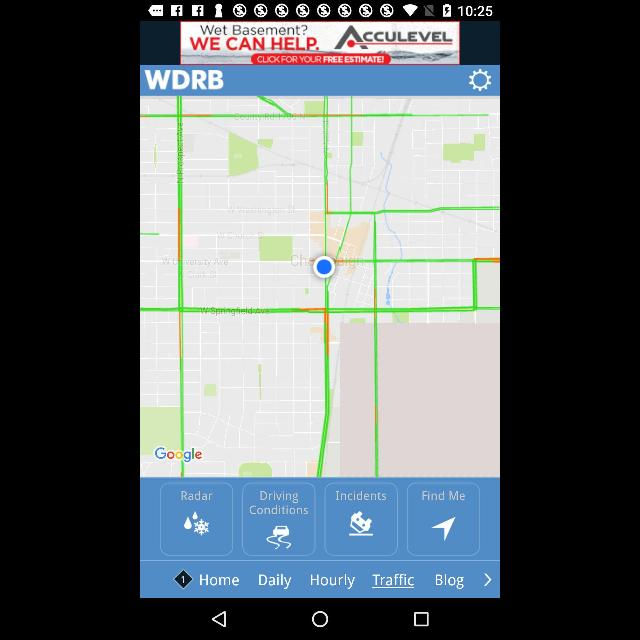icon: (160, 483, 232, 555), (408, 483, 480, 555), (243, 484, 315, 554), (326, 484, 398, 554), (468, 68, 494, 92), (172, 568, 194, 590), (209, 610, 227, 628), (311, 610, 329, 628), (413, 612, 429, 626), (483, 572, 492, 588)
iframe: (180, 21, 460, 64)
image: (144, 70, 226, 92)
map: (141, 97, 499, 477)
panel: (142, 598, 500, 638)
text: (250, 491, 308, 515), (334, 491, 388, 502), (422, 491, 466, 502), (181, 491, 213, 502)
textbutton: (310, 573, 356, 589), (372, 574, 416, 588), (259, 573, 293, 591), (199, 573, 239, 587), (435, 573, 465, 589)
uppertaskbar: (141, 1, 499, 20)
